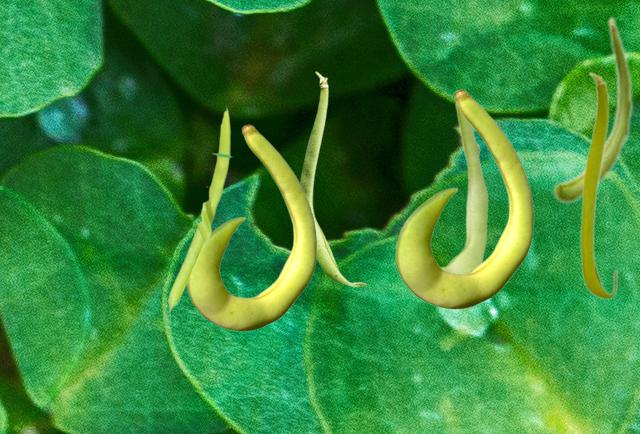french_bean: (395, 89, 533, 308), (186, 124, 316, 330), (165, 105, 232, 333), (552, 15, 633, 203), (300, 71, 366, 286), (579, 71, 617, 299), (441, 102, 487, 272)
